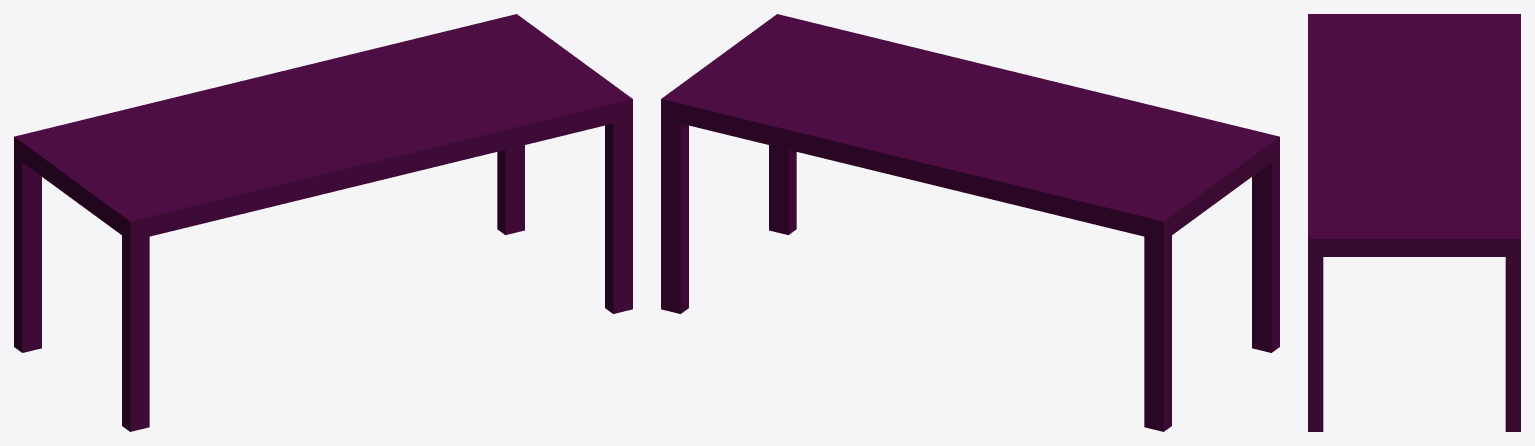
File: Table01.fbx
The picture shows the model from 3 angles, left to right: view 1: azimuth 30°, elevation 25°; view 2: azimuth 150°, elevation 25°; view 3: azimuth 270°, elevation 25°; orthographic projection. The views are drawn at different scales.
Parts seen in each view (by area): view 1: Table01; view 2: Table01; view 3: Table01.
Part boxes in pixels (x1,y1,x2,y2): Table01: (14, 14, 632, 431); Table01: (661, 14, 1279, 431); Table01: (1308, 14, 1520, 431).
Size of the model in its own units: 250 by 100 by 100.
